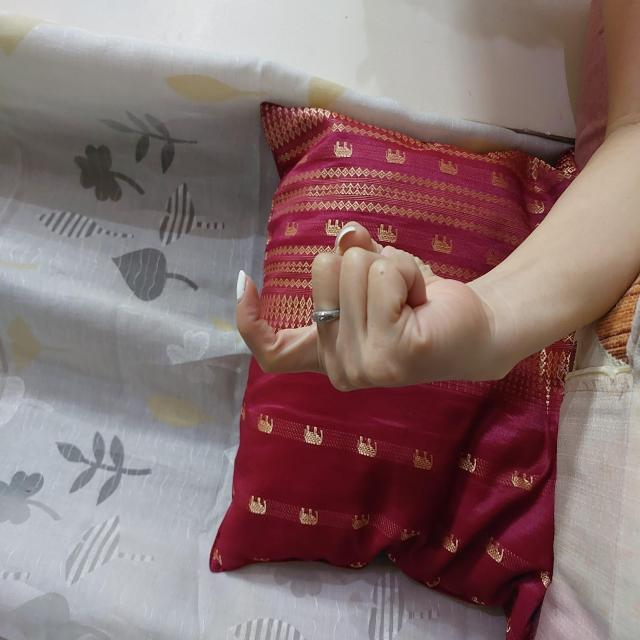X: (244, 234, 422, 492)
